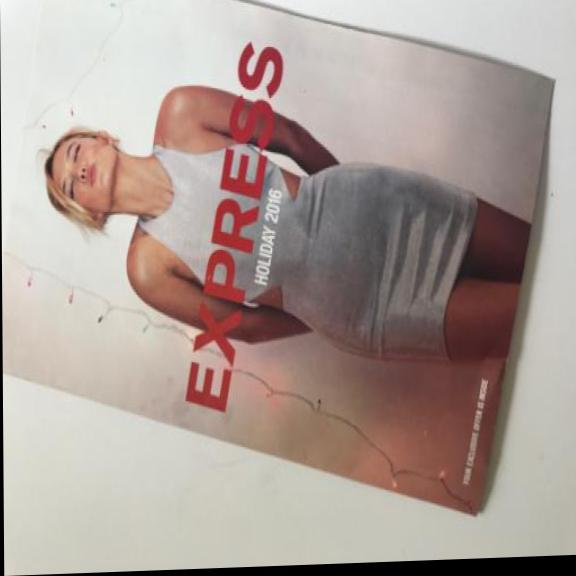Kertas: (0, 0, 569, 536)
